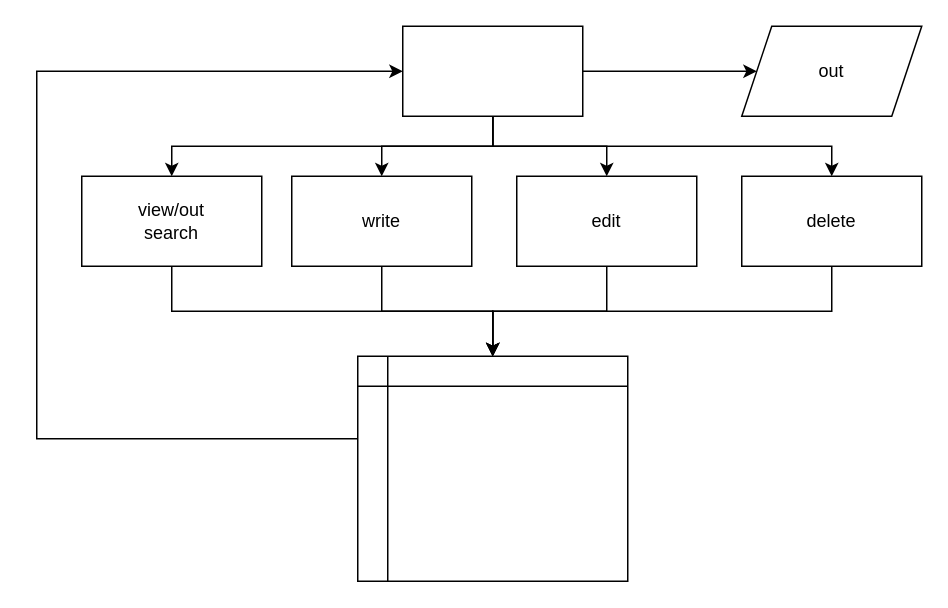
This 948x608 diagram has some shape labels left out. The shapes that lost their labels are listed below. From the top down, each one's box as (x1, y1, x2, y2) in pixels, then its label:
(401, 25, 583, 116): Interface
(356, 355, 628, 581): Данные сотрудников: - ID - ФИО - телефон - отдел - должность
